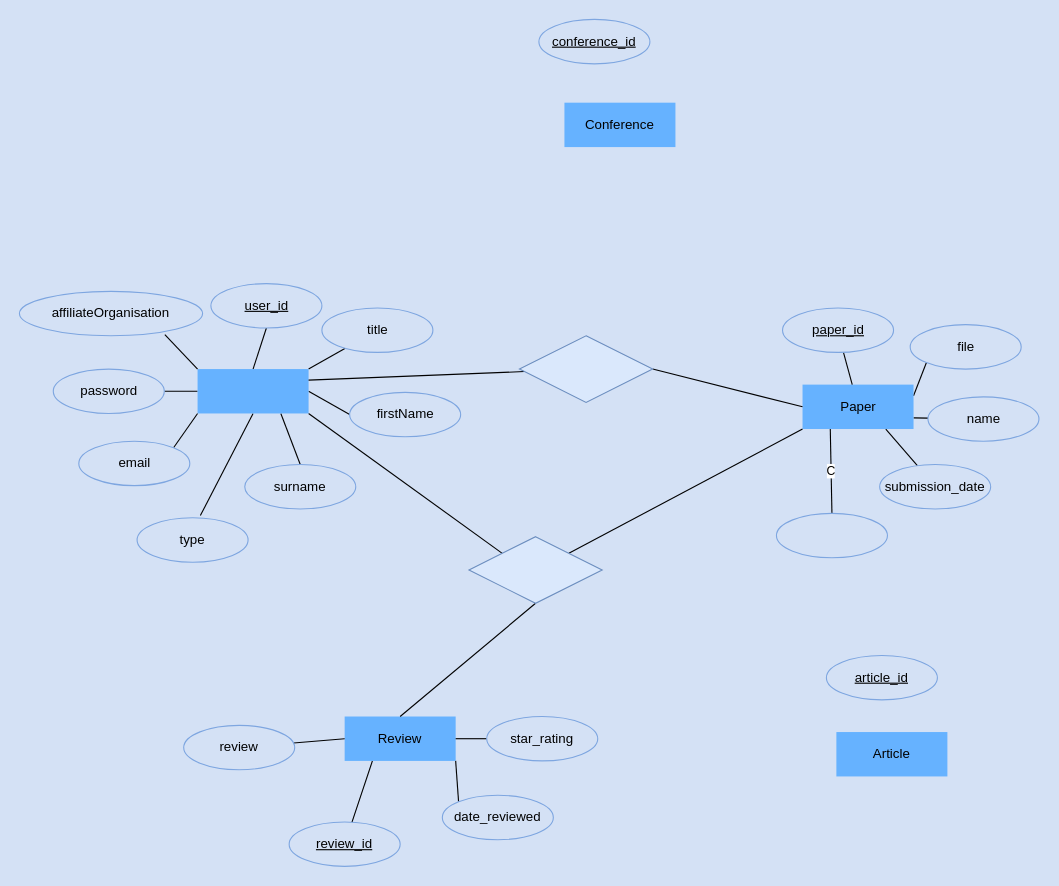
The diagram is 1059 pixels wide and 886 high, and some of its shapes have lost their labels. Here are the shapes that lost their labels. From the top down, the centre of each, then its label:
At point 585,368: "Writes".
At point 252,391: "User".
At point 831,535: "status".
At point 535,569: "Reviews".
